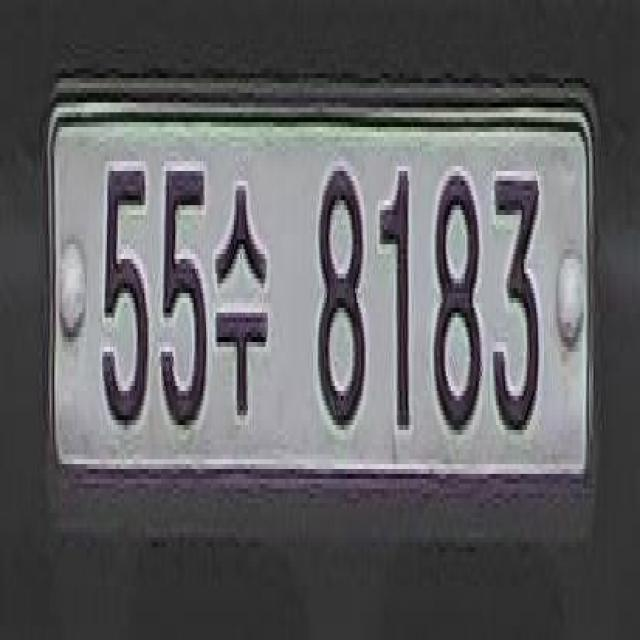1: (372, 148, 422, 441)
3: (489, 146, 546, 437)
5: (95, 150, 153, 428), (156, 148, 210, 432)
8: (427, 145, 487, 431), (311, 148, 368, 438)
license_plate: (41, 56, 604, 534)
su: (212, 154, 272, 431)
